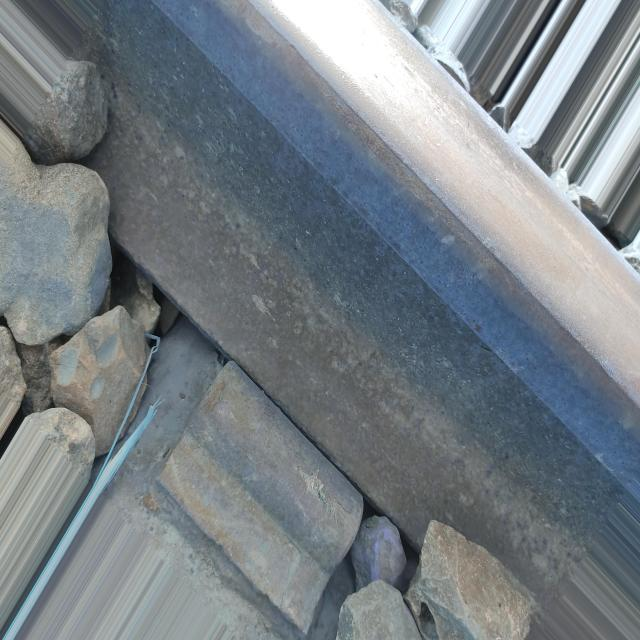Missing Fastener: (126, 386, 399, 617)
